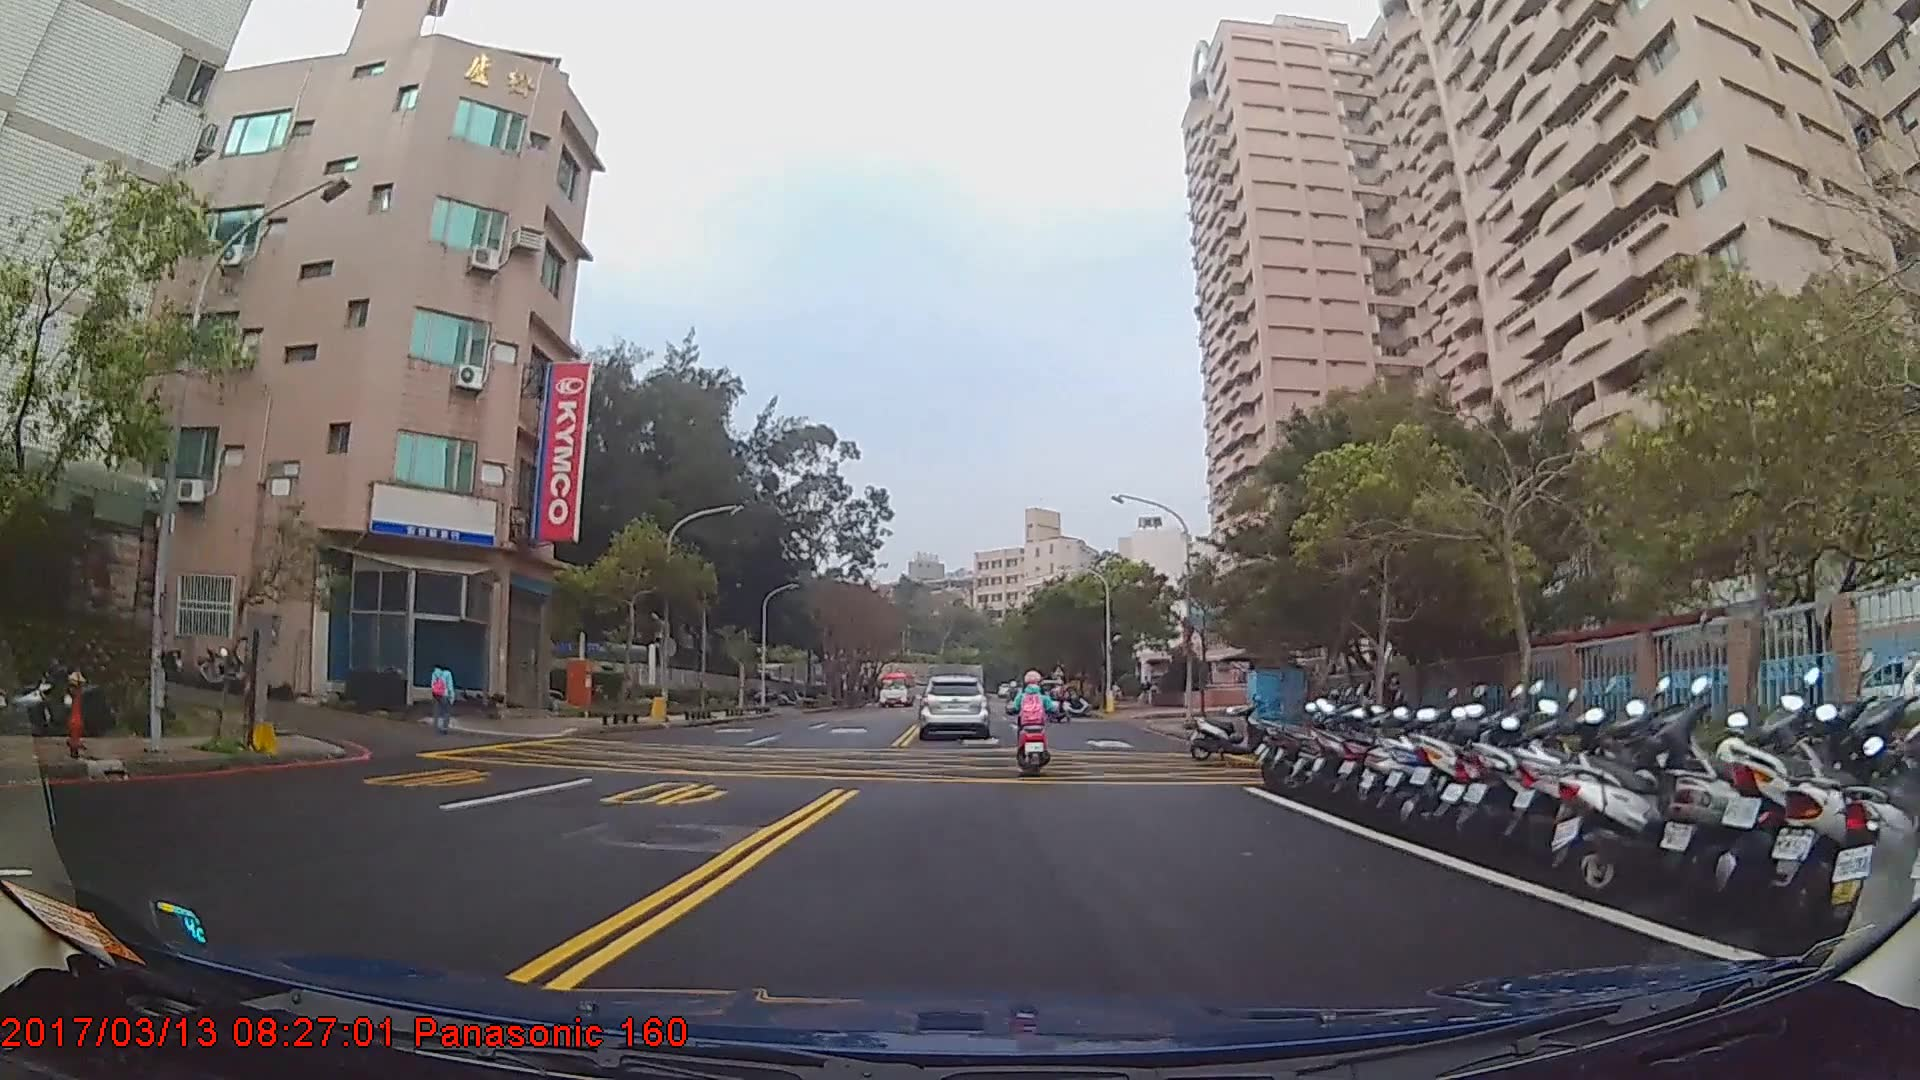pedestrian: (430, 652, 456, 735)
rider: (1009, 665, 1059, 779)
vehicle: (918, 673, 988, 739), (875, 668, 916, 707)
